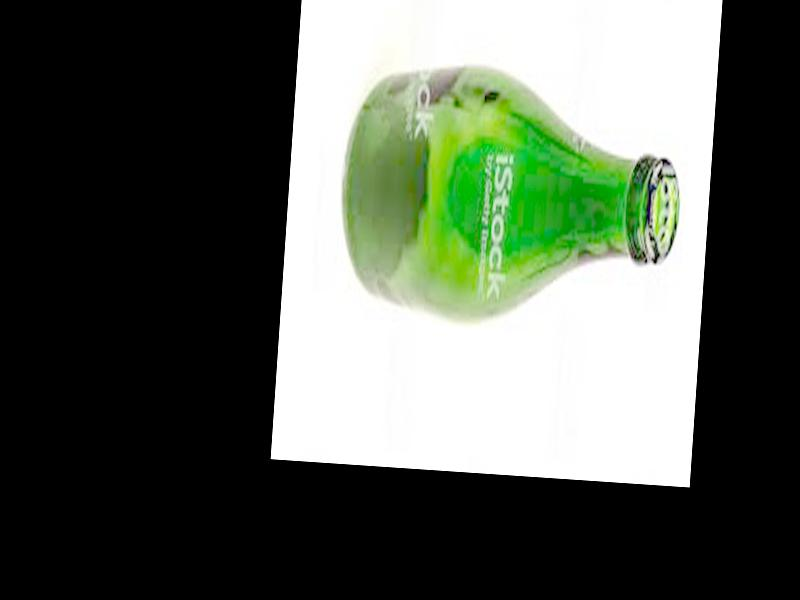Beer: (333, 56, 689, 337)
